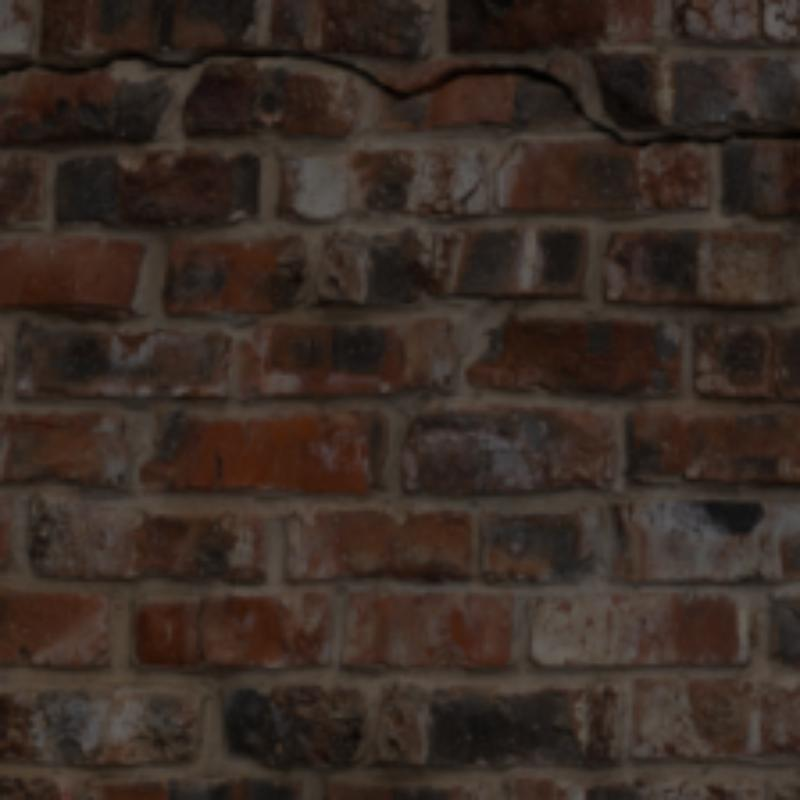pothole: (0, 43, 796, 146)
